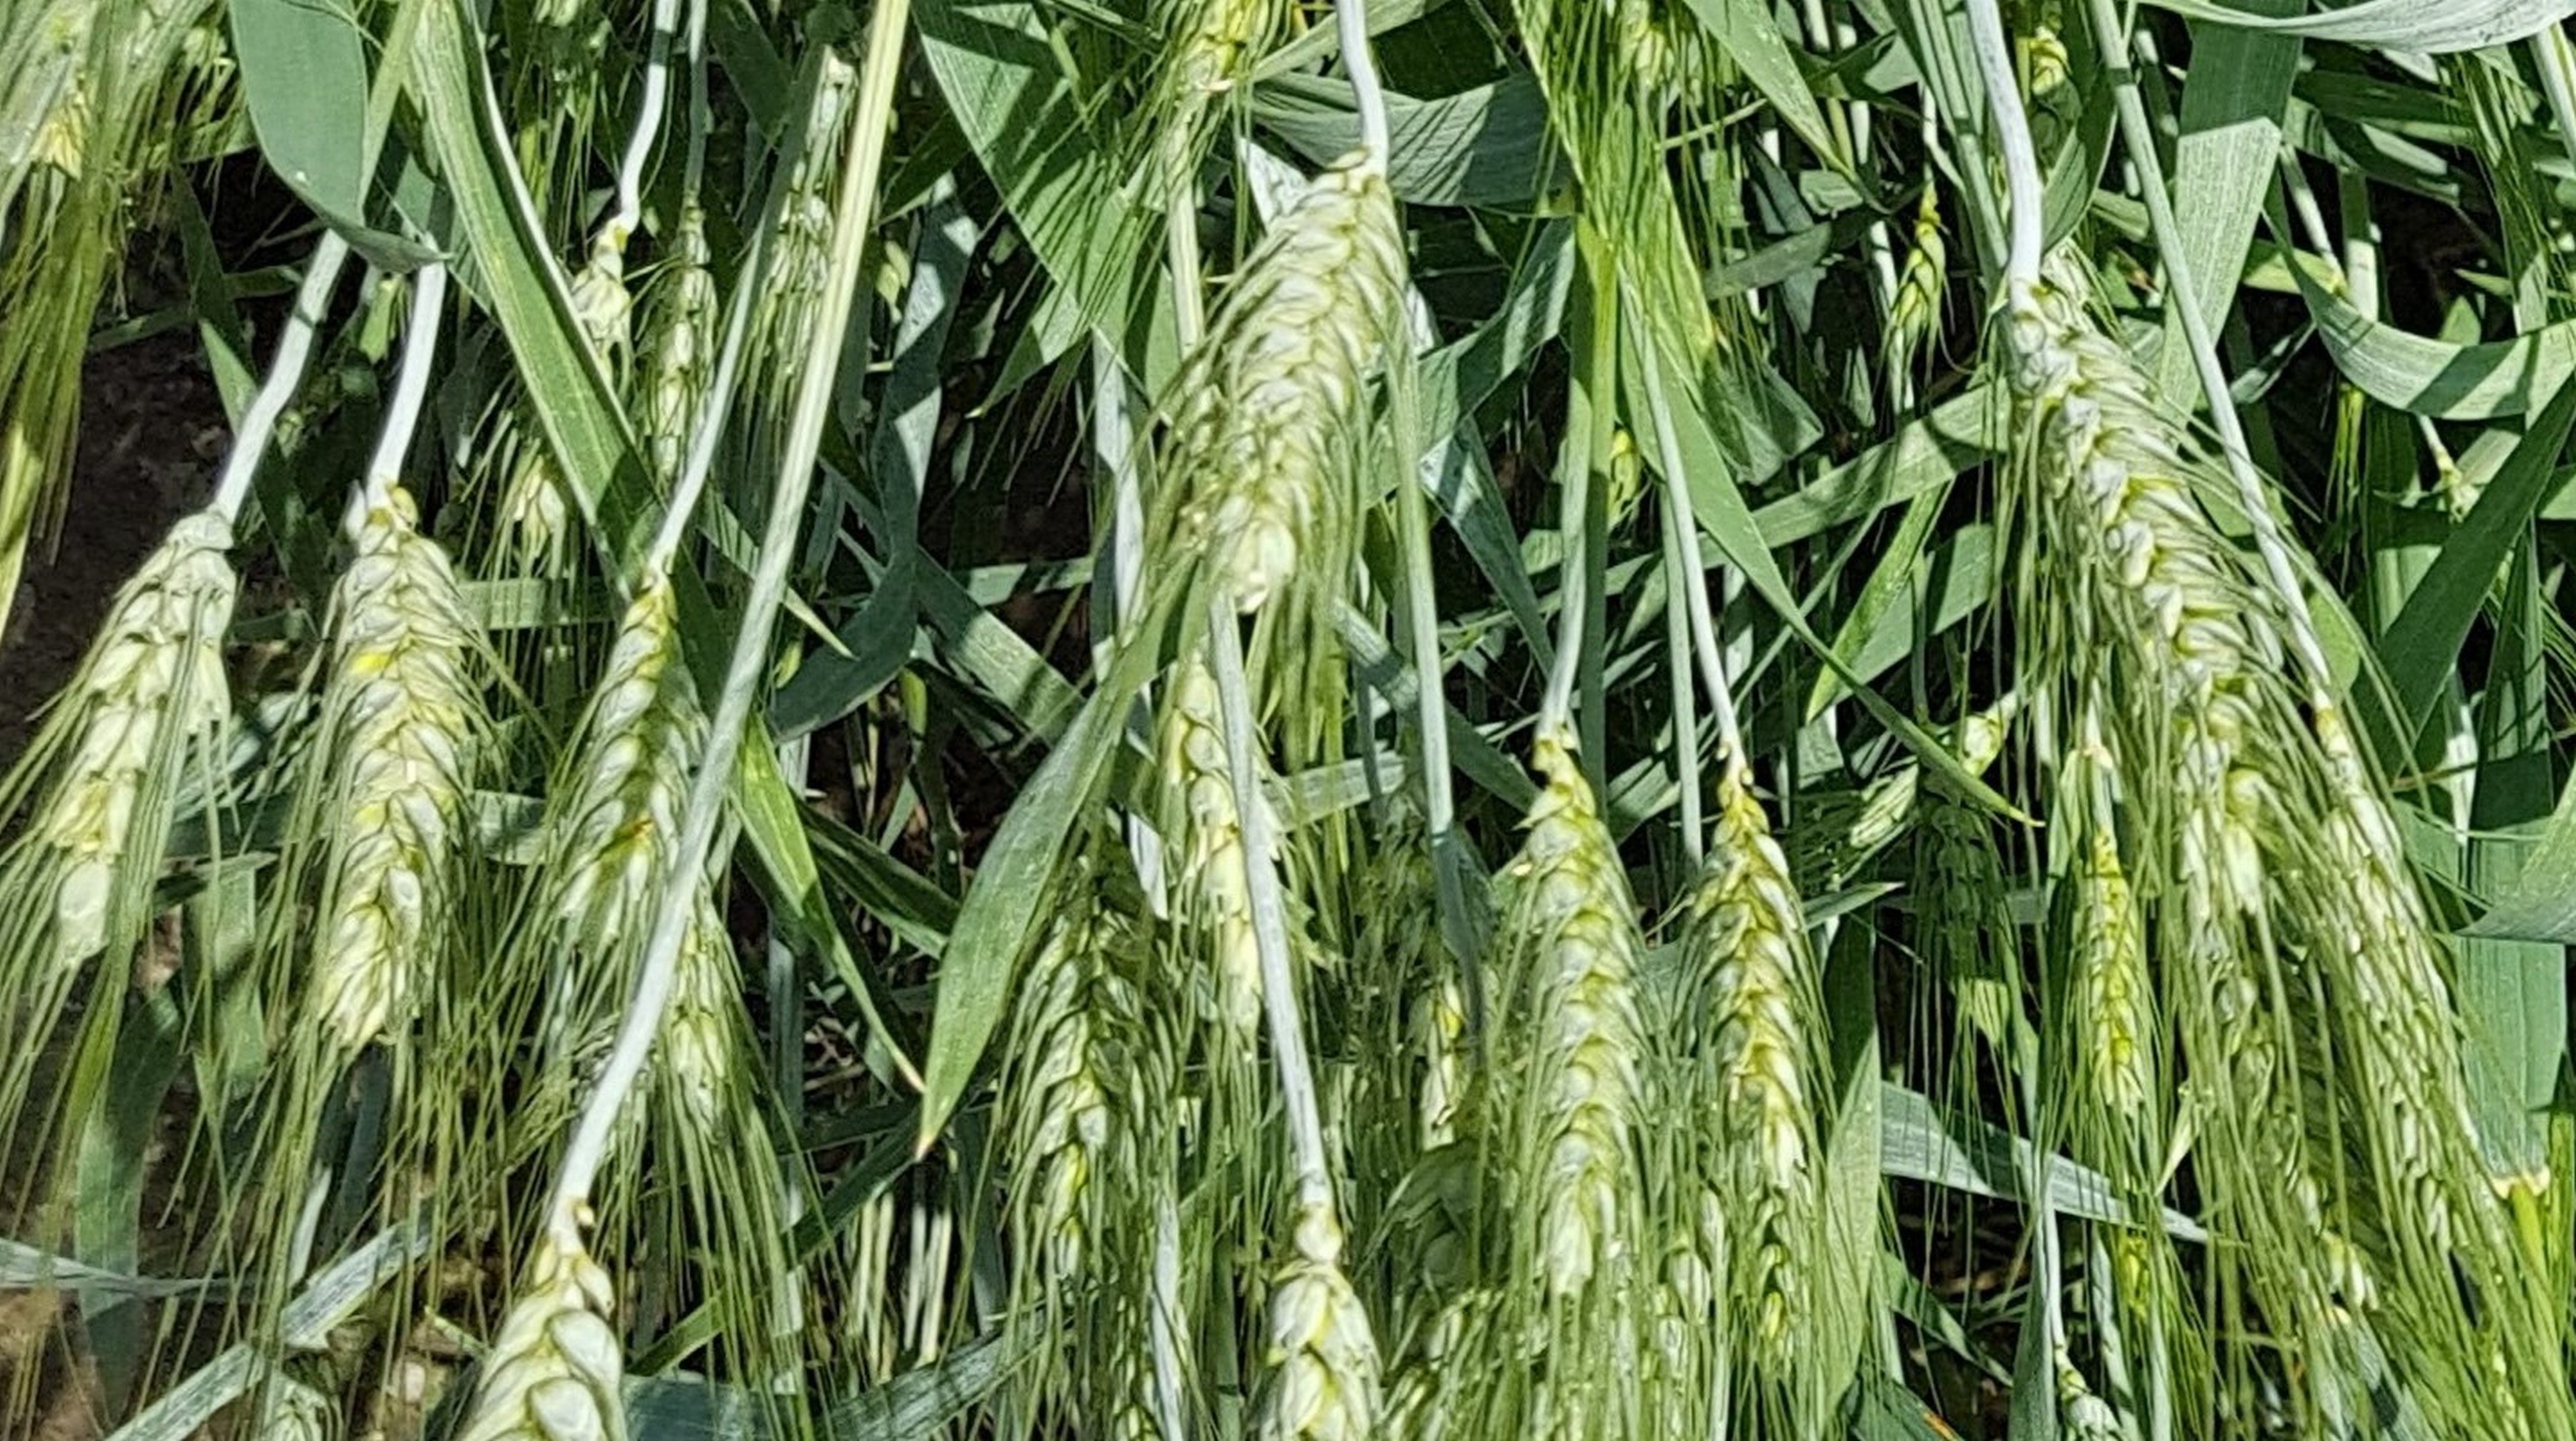Healthy Wheat: (310, 506, 495, 1087)
